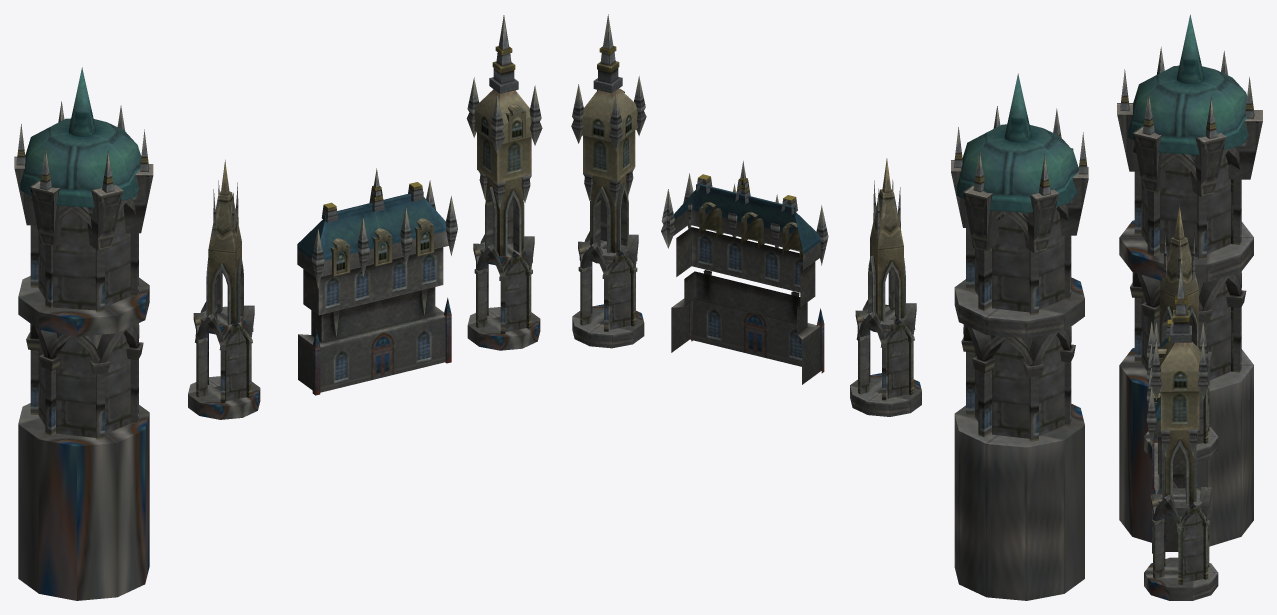
The model's file is f_jianzhu_gongy.FBX.
3 views of the same model, side by side, from view 1: azimuth 30°, elevation 25°; view 2: azimuth 150°, elevation 25°; view 3: azimuth 270°, elevation 25° (orthographic).
Parts seen in each view (by area): view 1: w_103_bulding_01, w_103_bulding_03, w_103_bulding_04, w_103_bulding_02; view 2: w_103_bulding_01, w_103_bulding_03, w_103_bulding_04, w_103_bulding_02; view 3: w_103_bulding_01, w_103_bulding_04, w_103_bulding_02, w_103_bulding_03.
Part boxes in pixels (bbox=[...]): w_103_bulding_01: bbox=[14, 67, 153, 600]; w_103_bulding_03: bbox=[297, 168, 457, 395]; w_103_bulding_04: bbox=[466, 15, 542, 350]; w_103_bulding_02: bbox=[188, 160, 260, 419]; w_103_bulding_01: bbox=[951, 73, 1088, 600]; w_103_bulding_03: bbox=[661, 161, 828, 384]; w_103_bulding_04: bbox=[571, 14, 646, 348]; w_103_bulding_02: bbox=[850, 158, 921, 416]; w_103_bulding_01: bbox=[1117, 14, 1262, 546]; w_103_bulding_04: bbox=[1144, 265, 1218, 600]; w_103_bulding_02: bbox=[1144, 205, 1218, 463]; w_103_bulding_03: bbox=[1146, 319, 1199, 553].
Bounding box in the file's own units: 14915 × 14116 × 3683.
